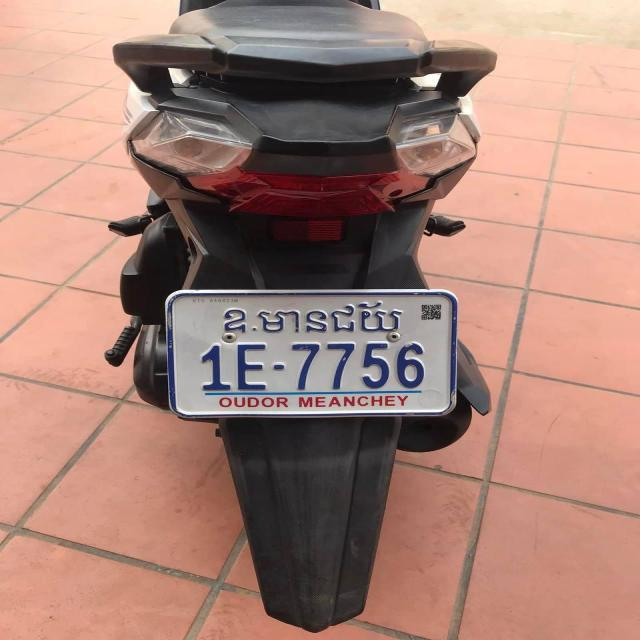Oudor_Meanchey: (224, 300, 404, 333)
